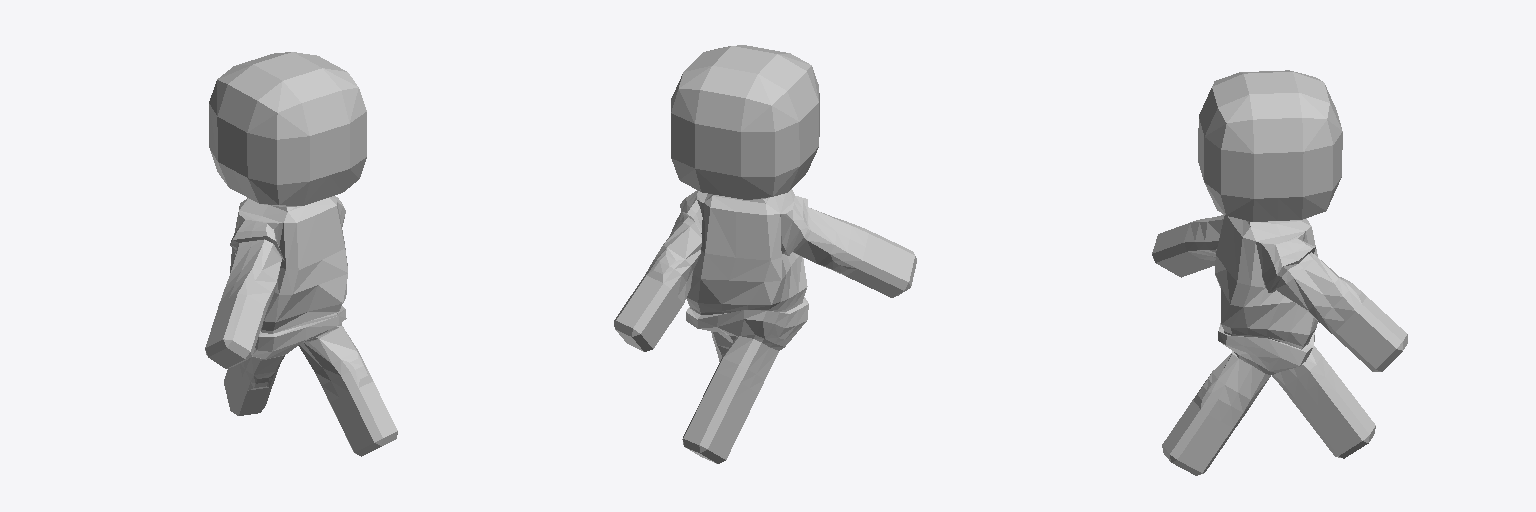
File: Character.obj
3 renders of one model, left to right at view 1: azimuth 30°, elevation 25°; view 2: azimuth 150°, elevation 25°; view 3: azimuth 270°, elevation 25°, orthographic.
Visible parts, largest first — view 1: Cube; view 2: Cube; view 3: Cube.
Part boxes in pixels (x1,y1,x2,y2): Cube: (205,52,397,456); Cube: (614,45,916,463); Cube: (1152,70,1407,475).
Bounding box in the file's own units: 1.05 × 1.95 × 1.22.